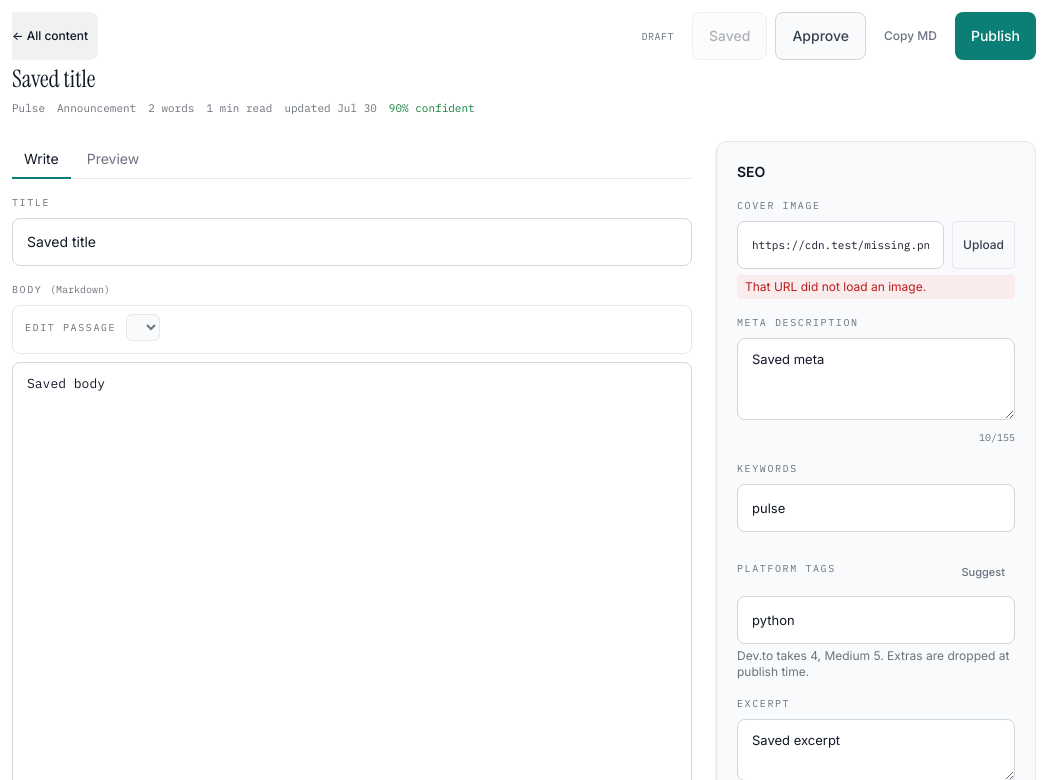
Test: the SEO panel › re-tries the thumbnail after the URL is edited rather than staying broken
Check: the field showing "Saved title" is shown, box 12,218 -> 692,266
Check: the text "That URL did not load an image." is shown, box 737,274 -> 1015,298
Type "x" into the field labelled "Cover image" at {"x": 841, "y": 244}, box 737,220 -> 944,268
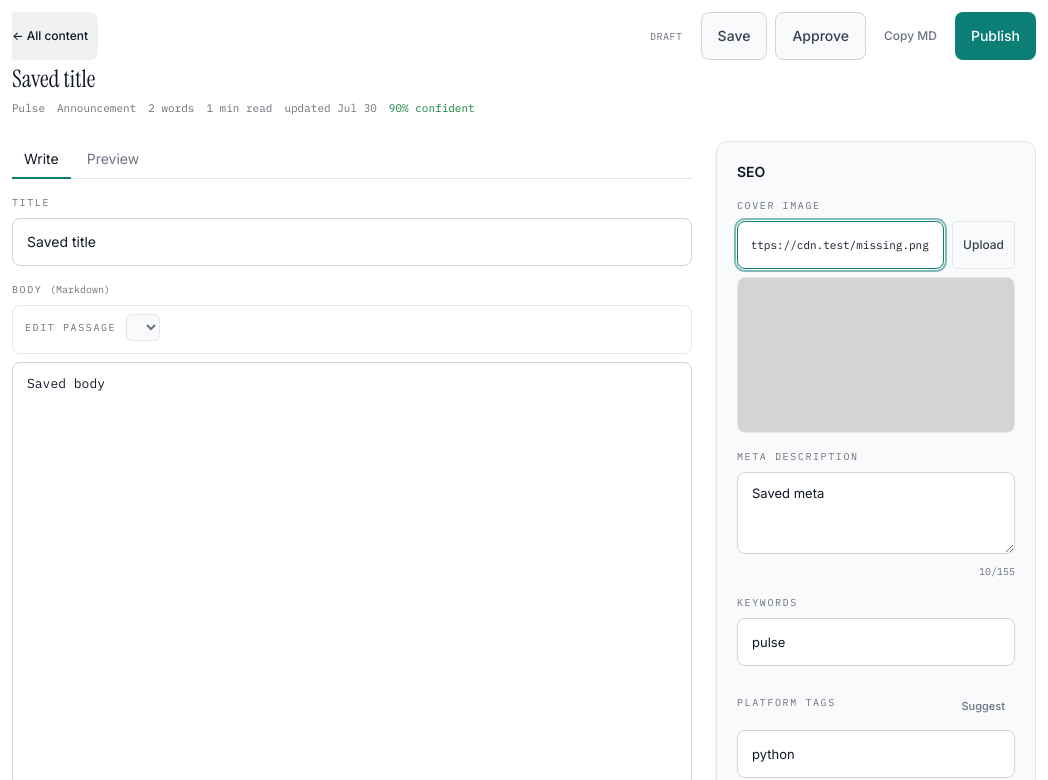
Check: the text "did not load an image" is gone
